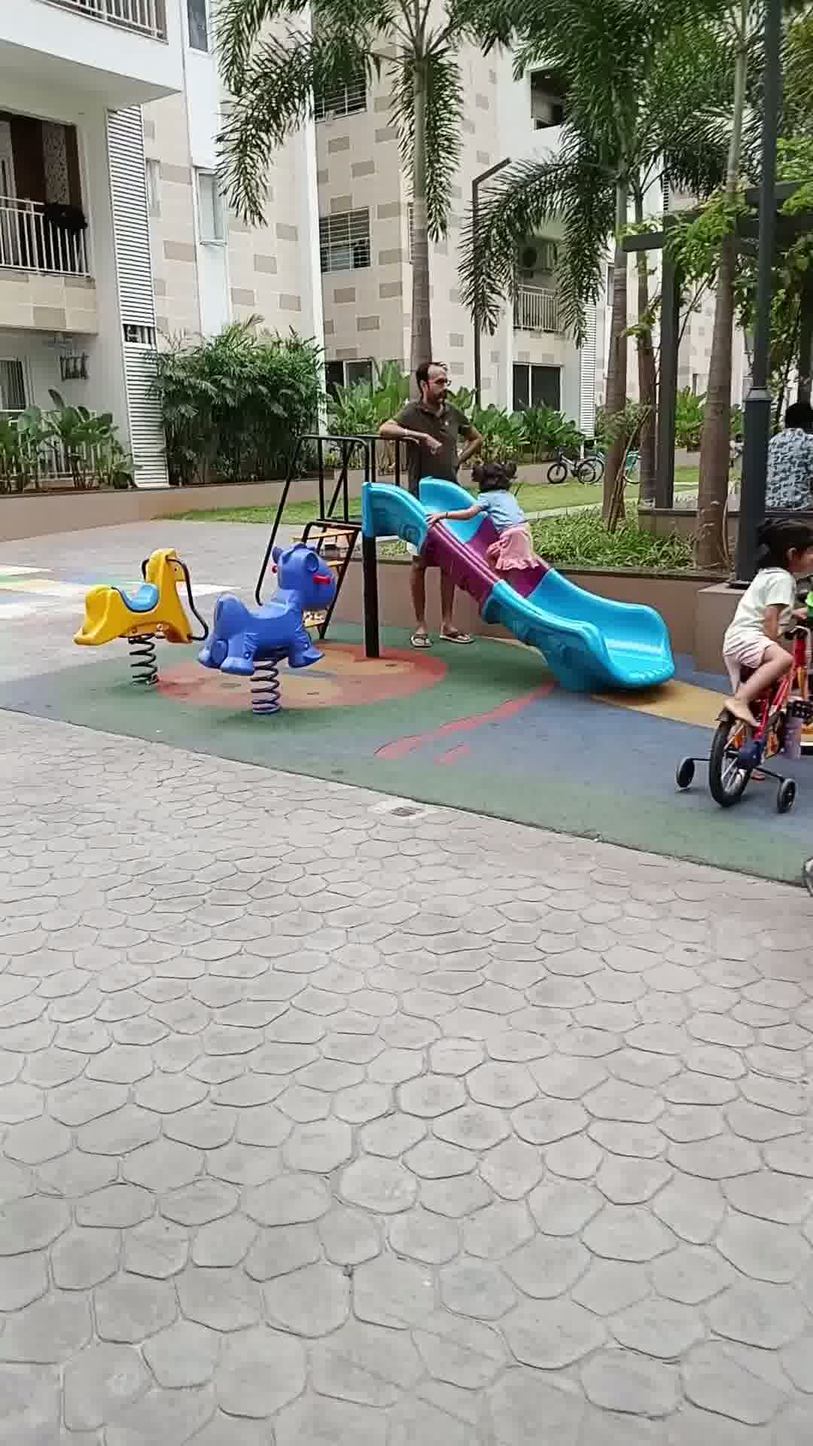bicycle: (654, 609, 802, 845), (534, 431, 609, 496)
person: (373, 350, 504, 689), (714, 495, 805, 769), (407, 436, 555, 598), (754, 362, 813, 535)
tree: (193, 3, 529, 444), (535, 0, 691, 569)
